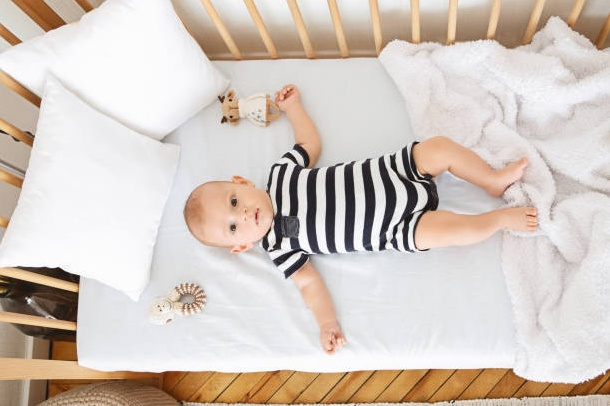baby: (184, 85, 537, 352)
crib: (197, 0, 460, 59)
